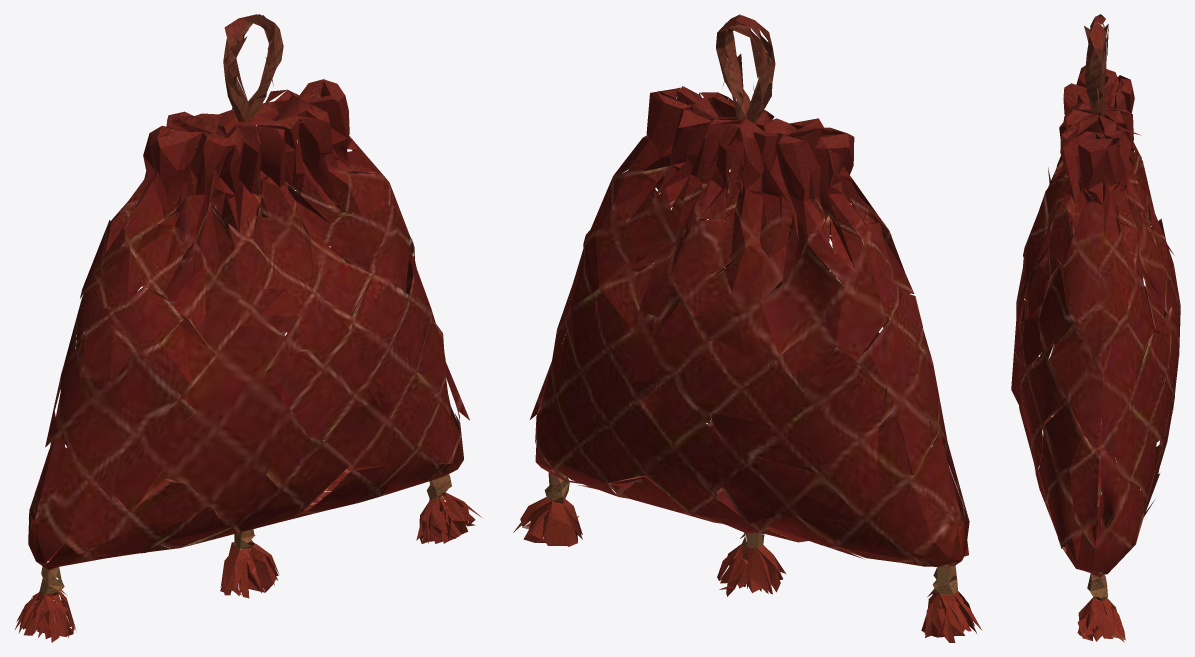
File: purse_p3_w1.glb
3 views of the same model, side by side, from view 1: azimuth 30°, elevation 25°; view 2: azimuth 150°, elevation 25°; view 3: azimuth 270°, elevation 25° (orthographic). The views are drawn at different scales.
Visible parts, largest first — view 1: purse_p3_w1; view 2: purse_p3_w1; view 3: purse_p3_w1.
Part boxes in pixels (box(x1,y1,x2,y2)): purse_p3_w1: box(15, 14, 481, 642); purse_p3_w1: box(513, 14, 981, 642); purse_p3_w1: box(1011, 14, 1180, 642).
Bounding box in the file's own units: 0.1512 × 0.1808 × 0.0516.
Materials: 1 (1 with a texture image).
